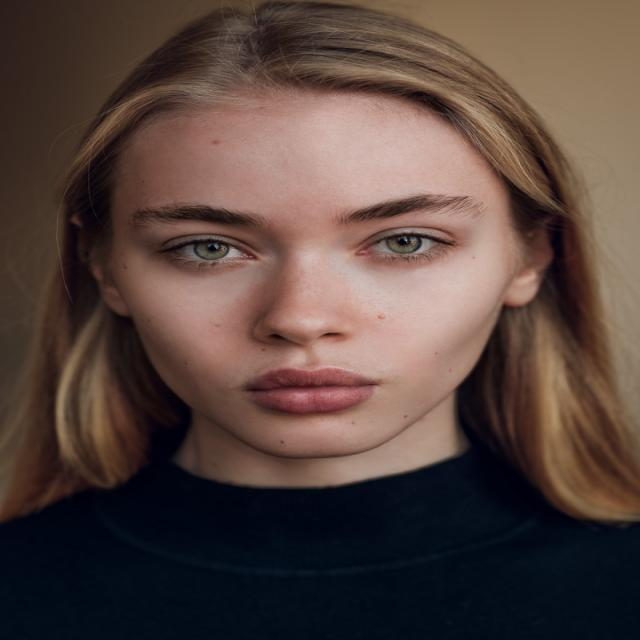earlobe: (99, 278, 133, 318), (503, 270, 538, 308)
eye: (354, 231, 459, 257), (161, 237, 262, 264)
nose: (253, 332, 360, 363)
wholeear: (64, 212, 134, 318), (502, 203, 562, 308)
